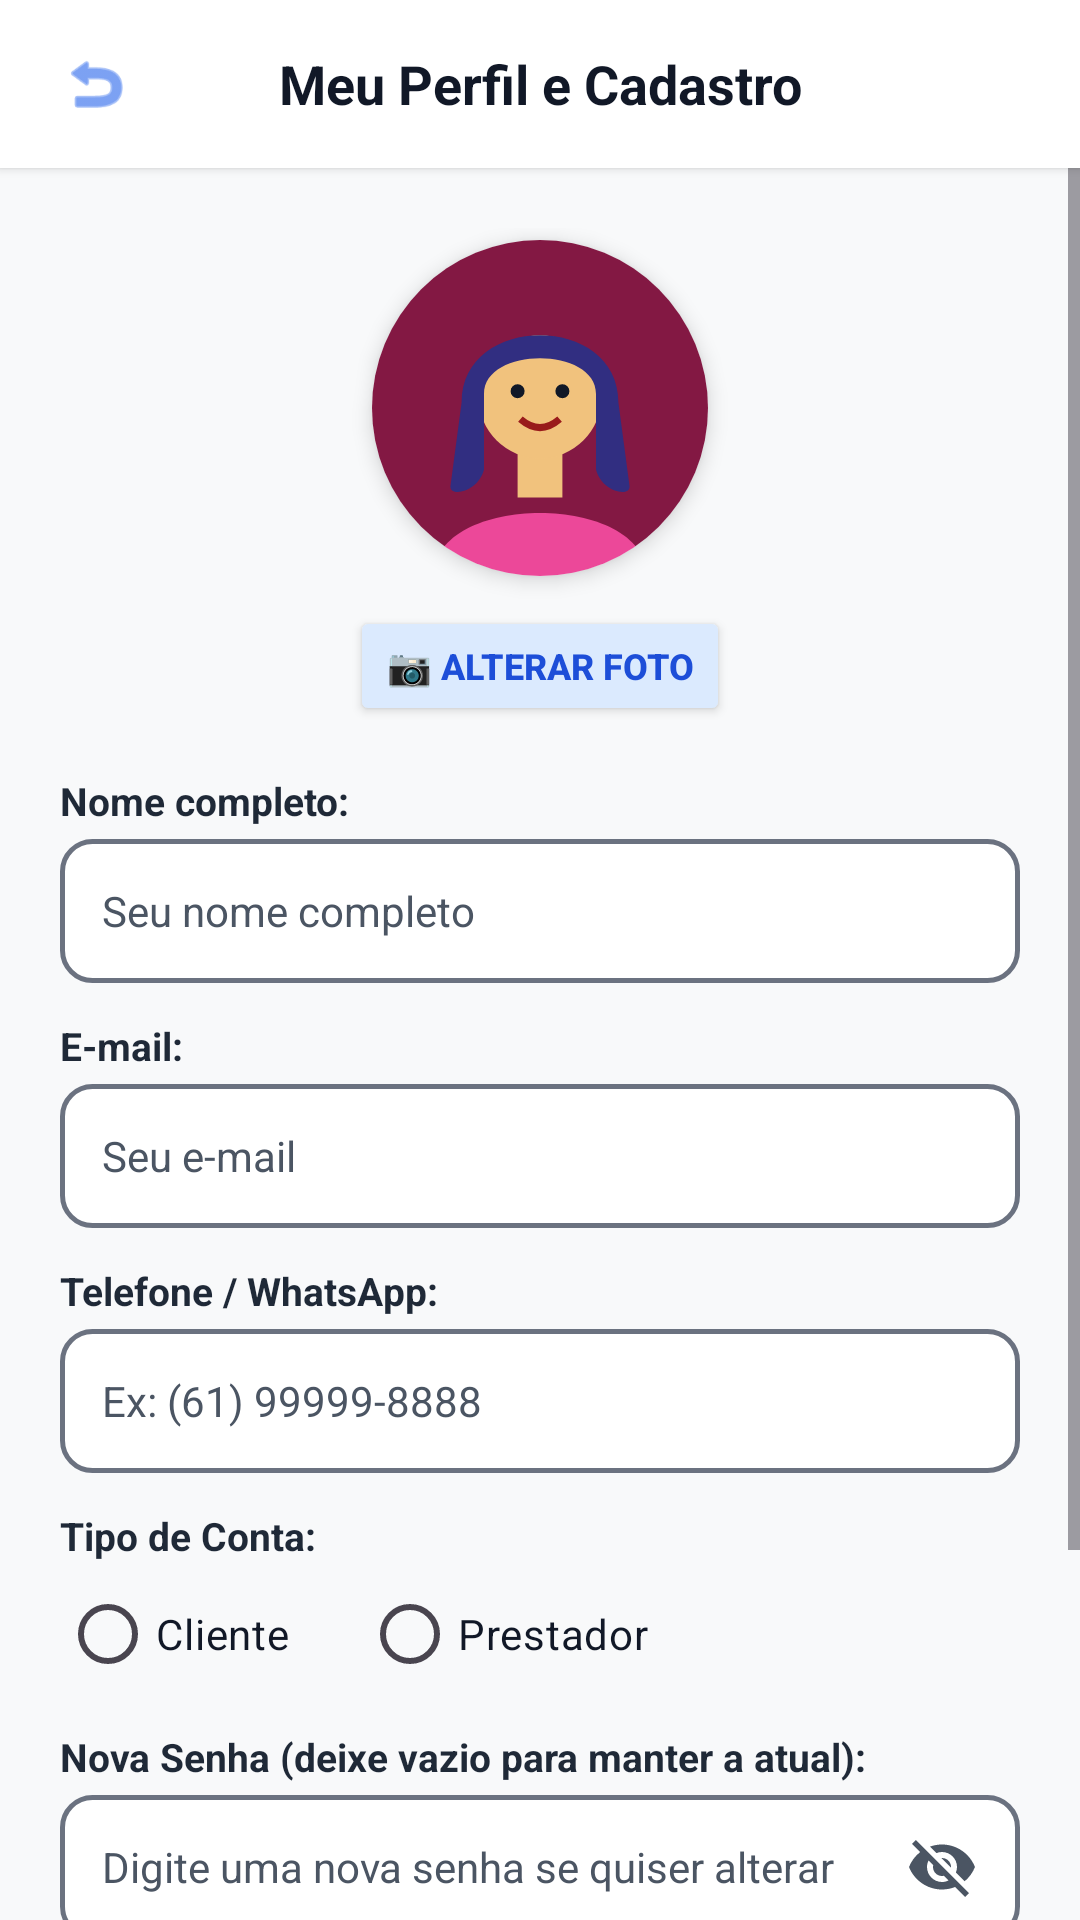

Named icons in this screenshot (1080px x 1920px) and their centers, [x,y]:
Mostrar ou ocultar senha: [942,1868]
Voltar: [97,84]
